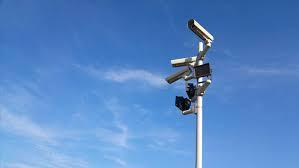Monitor: (166, 10, 239, 56)
